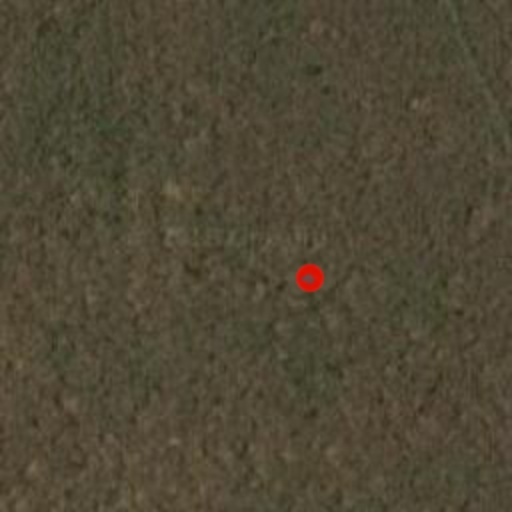circle: (290, 258, 330, 298)
